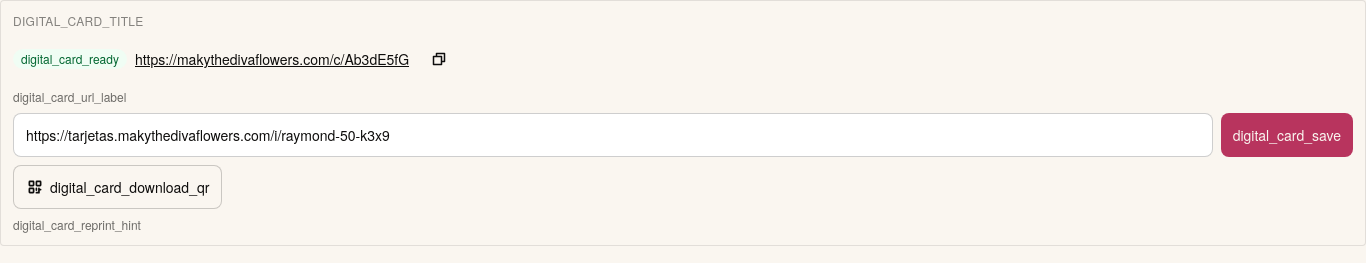
Test: DigitalCardSection › sends null for an empty url
This screenshot has width=1366, height=263.
Clear the field labelled "digital_card_url_label" at x=613, y=135, box [13,113,1213,157]
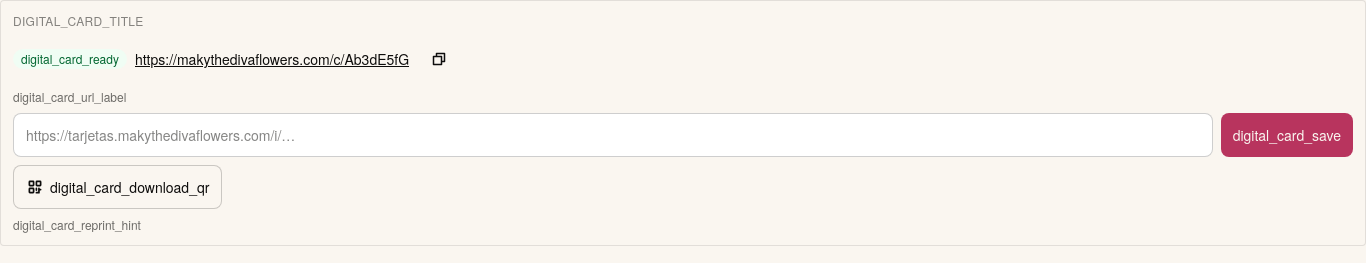
Click the button "digital_card_save" at x=1287, y=135, box [1221,113,1353,157]
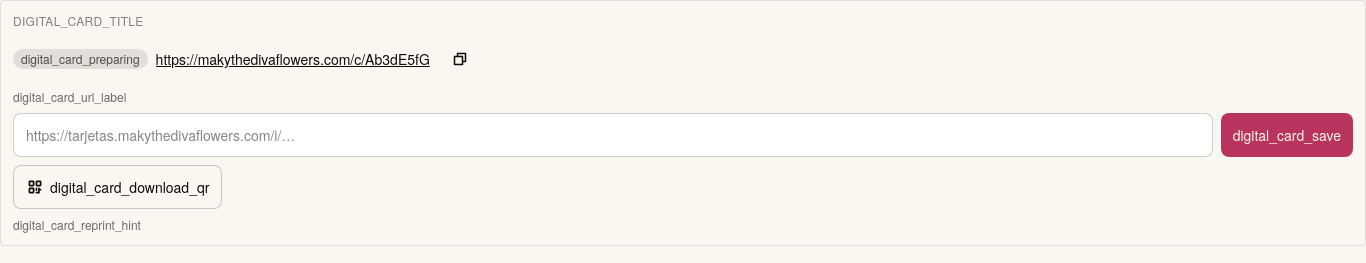
Expected: the text "digital_card_preparing" is shown, [13,49,148,69]
